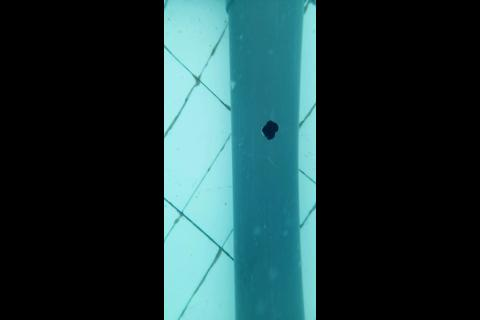kebocoran: (260, 118, 280, 140)
